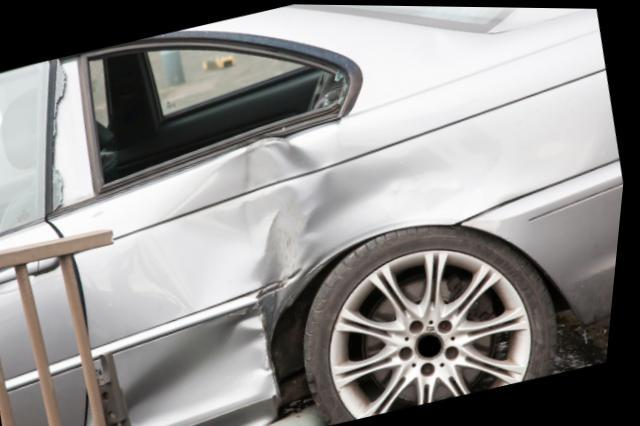dent: (140, 122, 518, 426)
